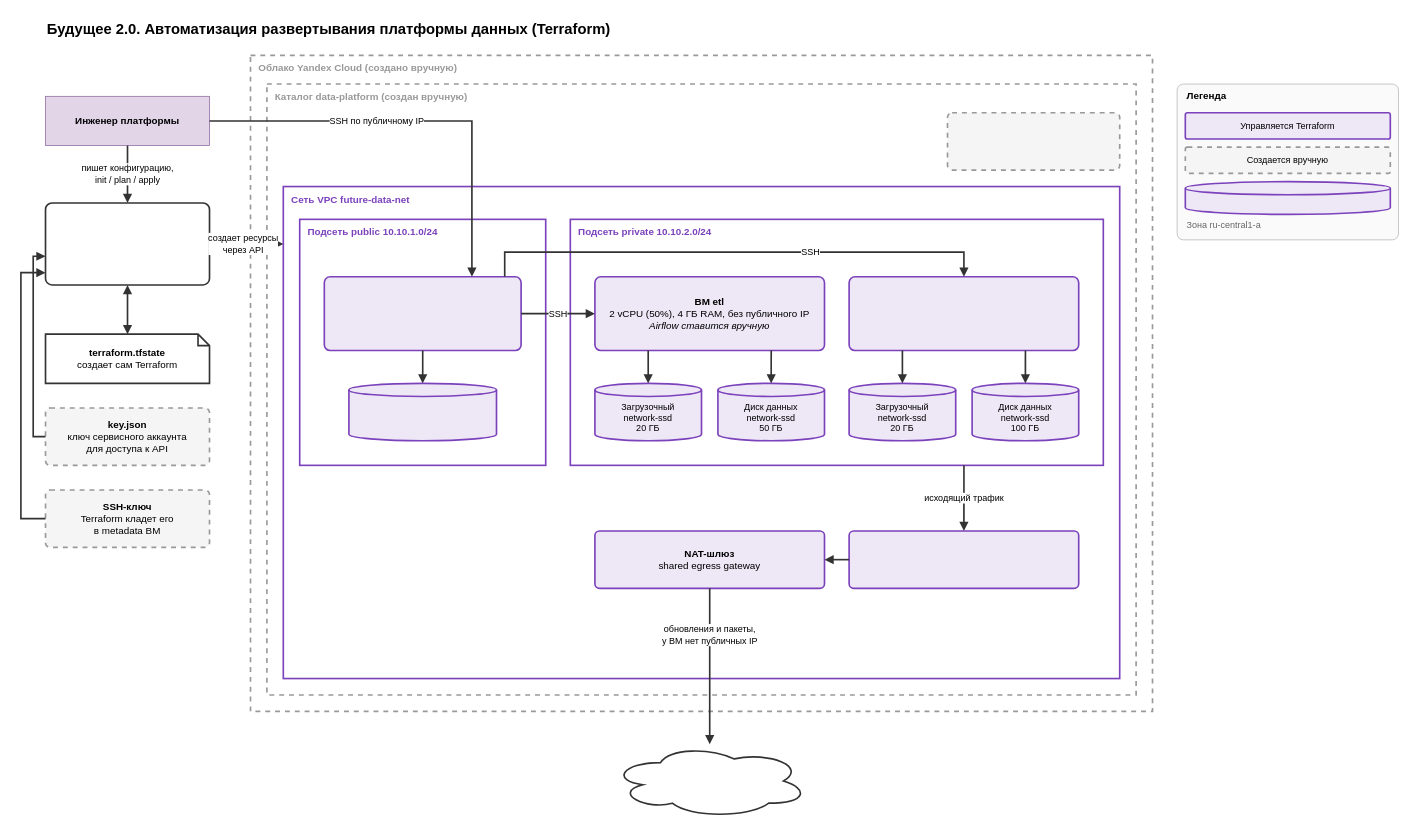
The diagram is 1413 pixels wide and 832 high, and some of its shapes have lost their labels. The centre of each missing label's shape, as x and y in pixels:
"Terraform CLI main.tf, variables.tf, outputs.tf, terraform.tfvars" belongs at (x=127, y=243).
"ВМ bastion 2 vCPU (20%), 2 ГБ RAM публичный IP, nat = true" belongs at (x=422, y=313).
"ВМ query 4 vCPU, 16 ГБ RAM, без публичного IP Dremio ставится вручную" belongs at (x=963, y=313).
"Диск под управлением Terraform" belongs at (x=1287, y=197).
"Загрузочный диск network-hdd, 15 ГБ" belongs at (x=422, y=411).
"Интернет" belongs at (x=709, y=780).
"Сервисный аккаунт terraform-sa, роль editor на каталог" belongs at (x=1033, y=141).
"Таблица маршрутов 0.0.0.0/0 → NAT-шлюз" belongs at (x=963, y=559).
